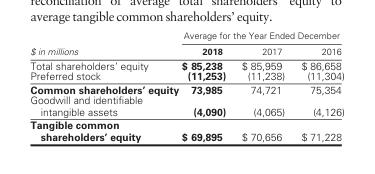table: (29, 29, 343, 142)
table column: (29, 29, 179, 142), (233, 29, 292, 142), (179, 29, 233, 142), (292, 29, 343, 142)
table column header: (29, 29, 343, 57)
table row: (29, 94, 343, 118), (29, 118, 343, 142), (29, 42, 343, 57), (29, 29, 343, 42), (29, 57, 343, 70), (29, 70, 343, 82), (29, 82, 343, 94)
table spanning cell: (29, 29, 179, 57), (179, 29, 343, 42)
